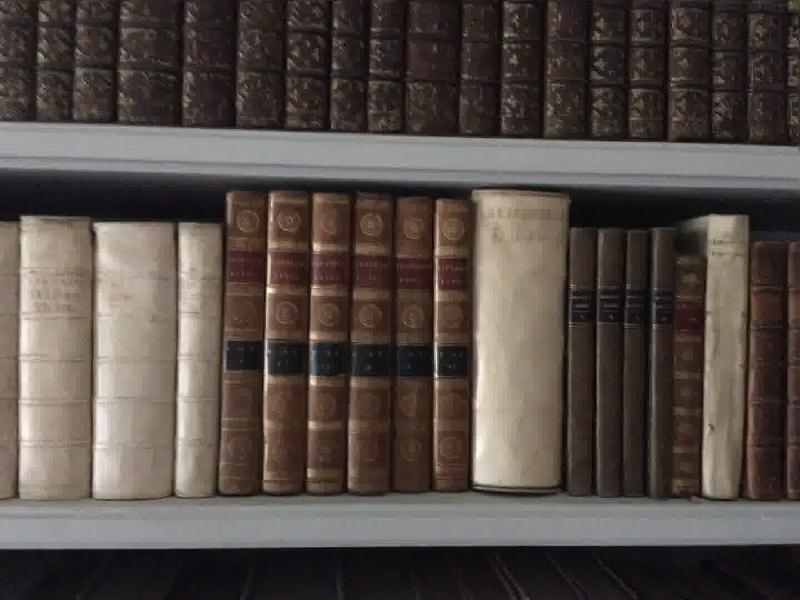Kk4-14: (469, 184, 566, 496)
Kk4-15_16: (569, 222, 620, 509)
Kk4-17_18: (624, 226, 673, 501)
Kk4-19: (676, 252, 703, 500)
Kk4-20: (708, 213, 746, 497)
Kk4-21_22: (747, 235, 800, 498)
Kk4-3_7: (2, 207, 219, 497)
Kk4-8_13: (223, 187, 469, 497)
